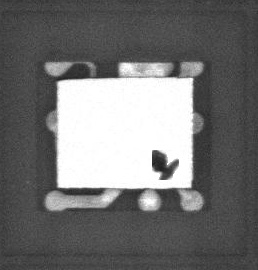DIE_INK: (152, 150, 180, 181)
